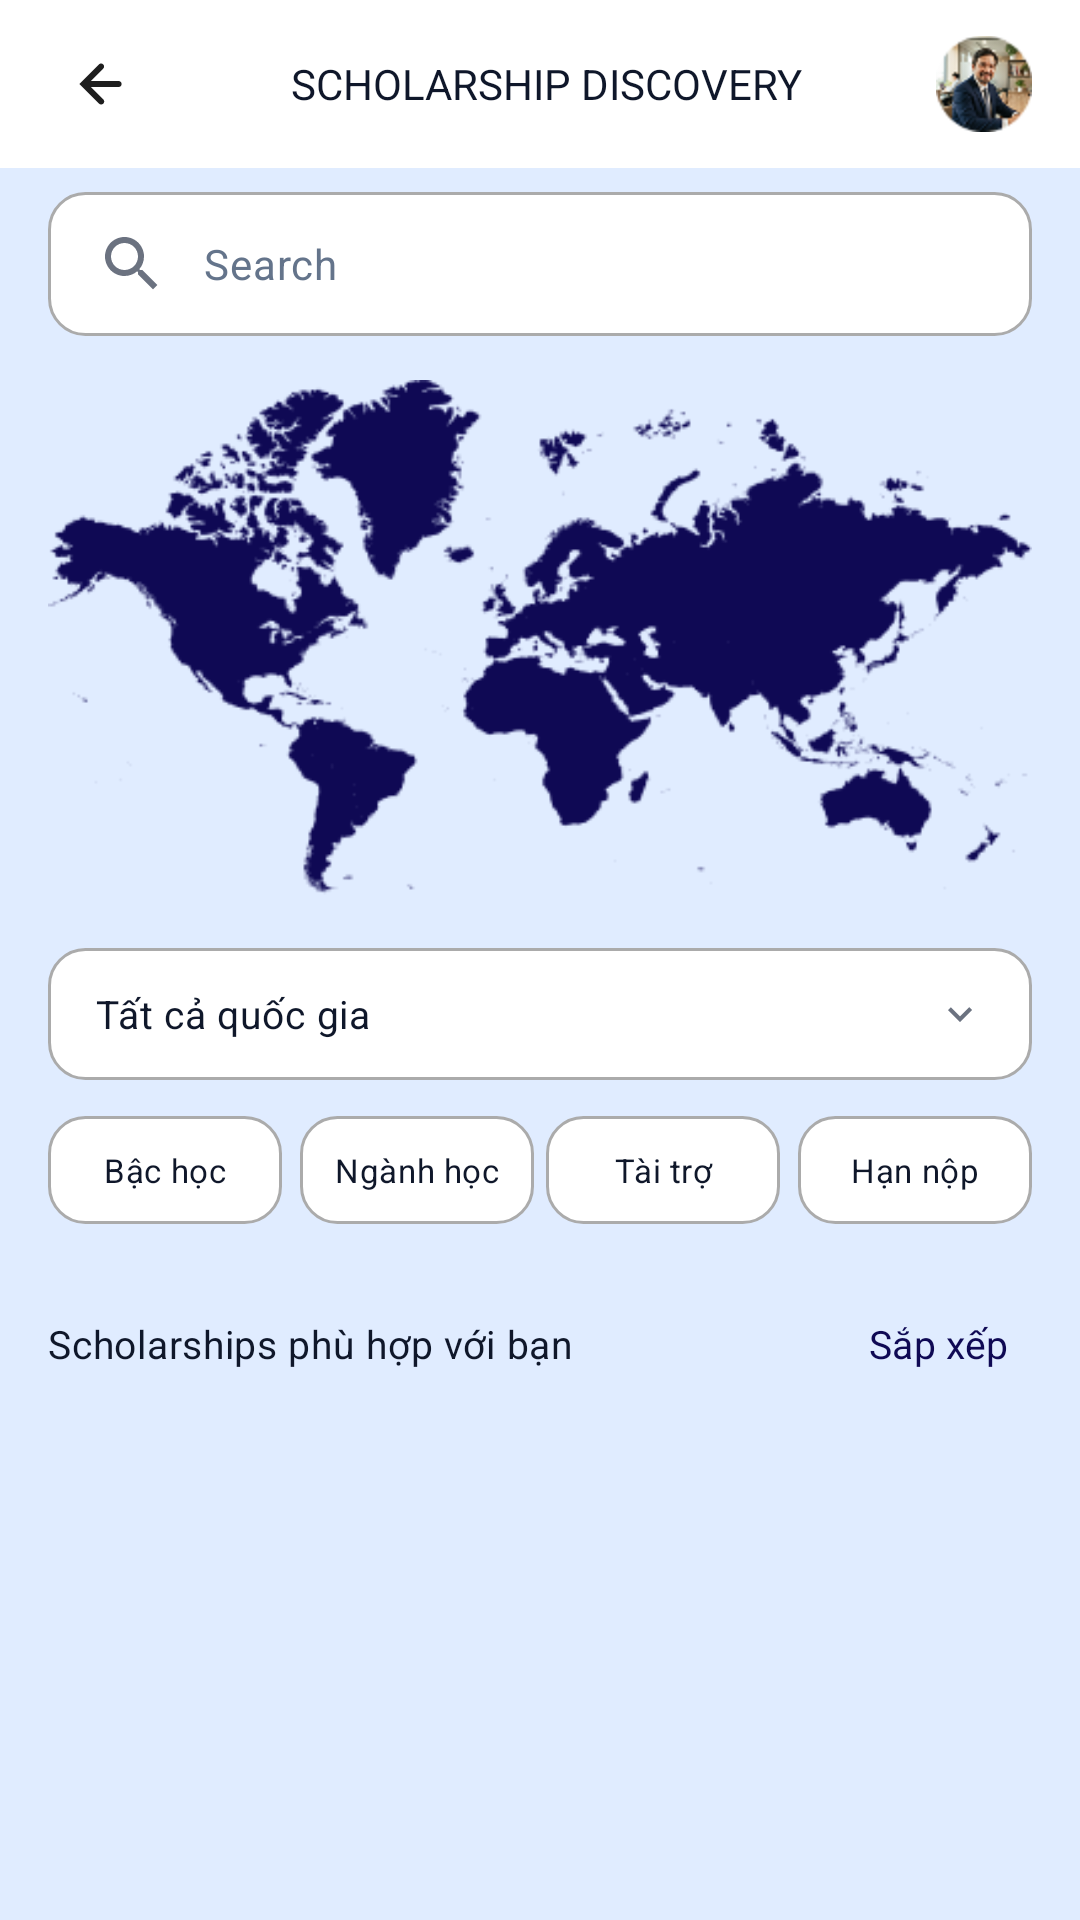

Screen size 1080x1920. Icon name, then its box in pixels as (x1, y1, x2, y2):
Back button: (79, 63, 122, 105)
